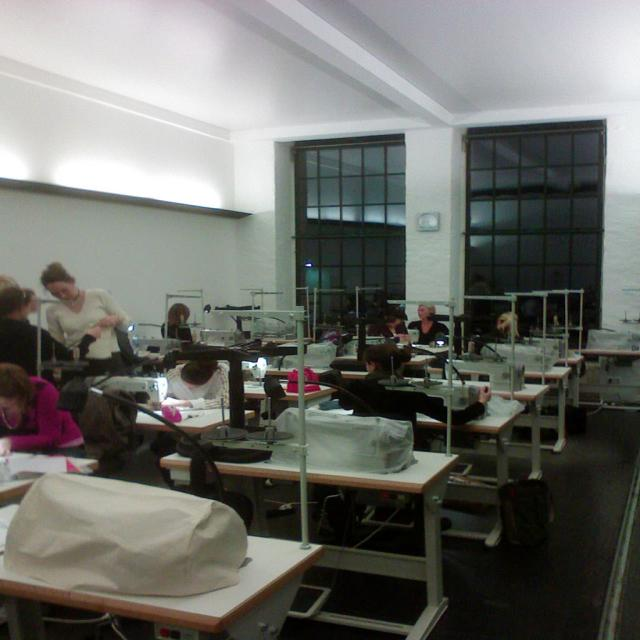desk: (0, 505, 316, 639)
person: (40, 262, 137, 375), (0, 362, 86, 455), (0, 281, 64, 377), (408, 304, 450, 346)
